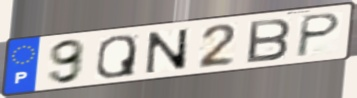2: (198, 23, 238, 70)
9: (44, 38, 89, 86)
B: (245, 16, 294, 65)
N: (144, 27, 190, 75)
P: (293, 11, 344, 60)
Q: (94, 33, 138, 80)
